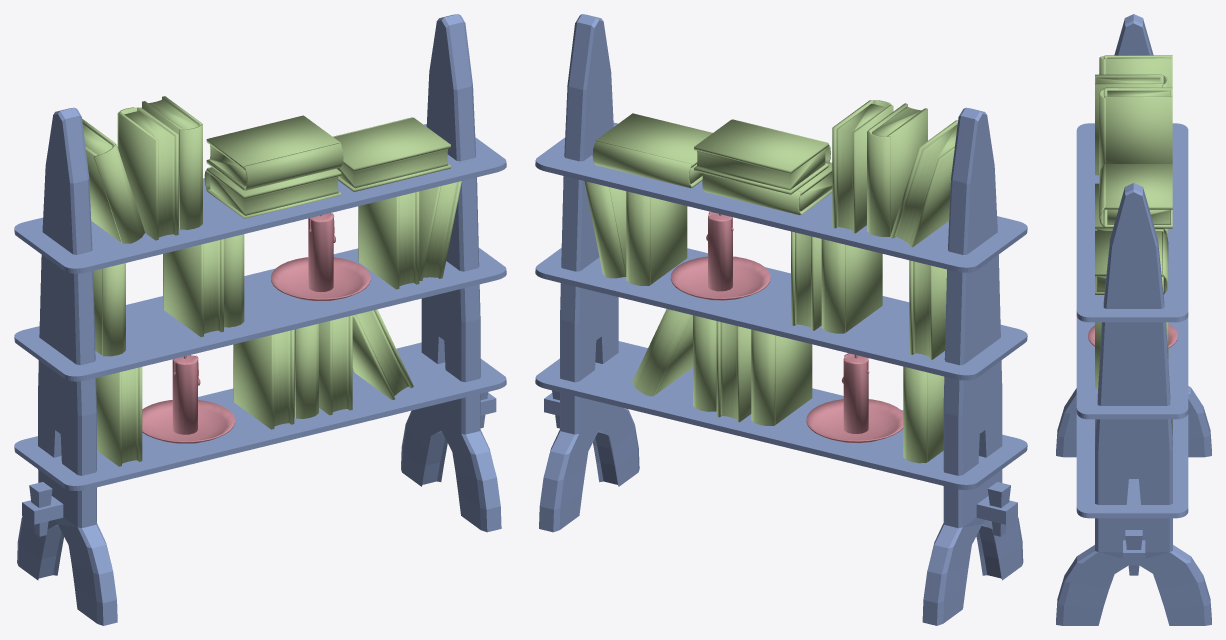
The model's file is bookcase_contents.fbx.
3 views of the same model, side by side, from view 1: azimuth 30°, elevation 25°; view 2: azimuth 150°, elevation 25°; view 3: azimuth 270°, elevation 25° (orthographic). The views are drawn at different scales.
Parts seen in each view (by area): view 1: bookcase, bookcase_contents; view 2: bookcase, bookcase_contents; view 3: bookcase, bookcase_contents.
Boxes of the visible parts, x1,y1,x2,y2 form: bookcase: [14, 14, 506, 625]; bookcase_contents: [82, 96, 461, 466]; bookcase: [535, 14, 1027, 625]; bookcase_contents: [584, 100, 957, 463]; bookcase: [1056, 14, 1211, 625]; bookcase_contents: [1088, 55, 1177, 440].
Bounding box in the file's own units: 3374 × 3372 × 1093.
